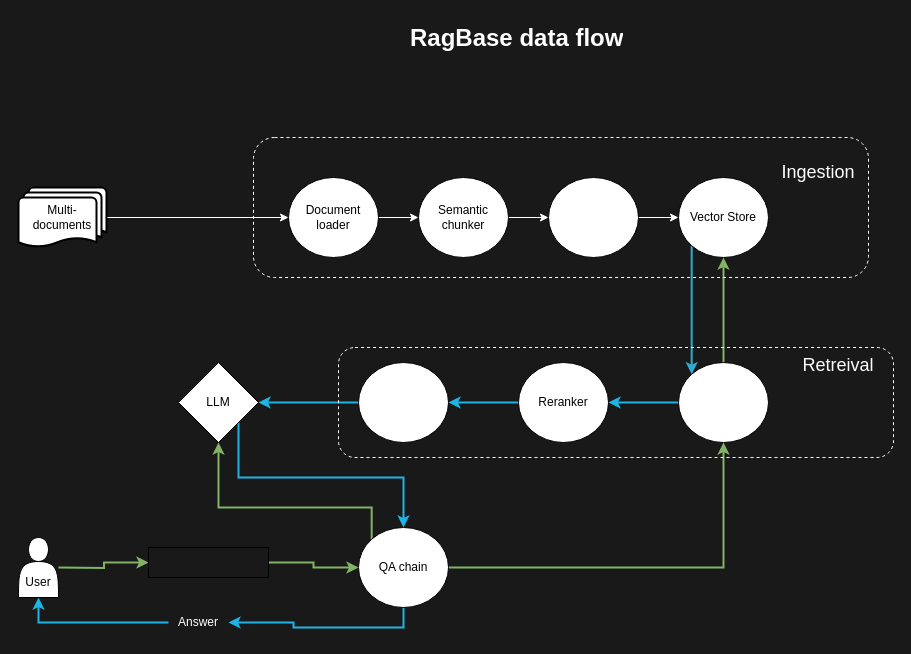
This 911x654 diagram has some shape labels left out. Each missing label, with the box of its shape:
LLM chain filter: (358, 362, 448, 442)
Retreiver: (678, 362, 768, 442)
Text splitter: (548, 176, 638, 258)
What are penguins known for: (148, 546, 268, 578)
